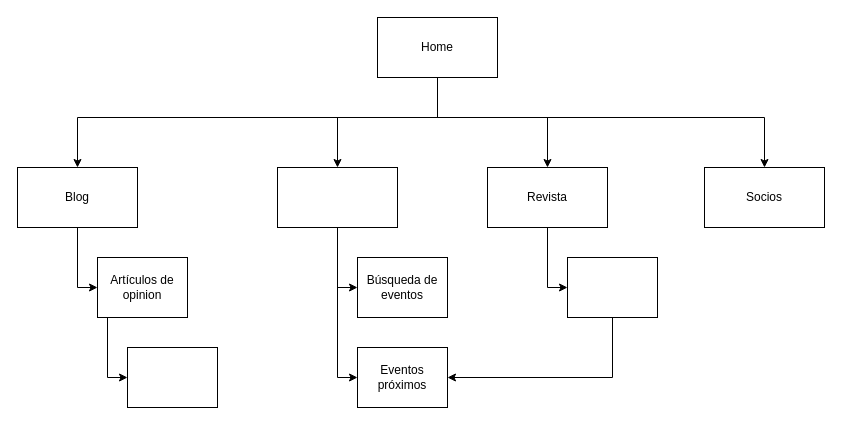
Image size: 842x425. Some labels were removed from this diagram. The box of each missing label's shape, as (x1, y1, x2, y2) in pixels:
Comentarios: (126, 346, 218, 408)
Eventos: (276, 166, 398, 228)
Revista semanal: (566, 256, 658, 318)
